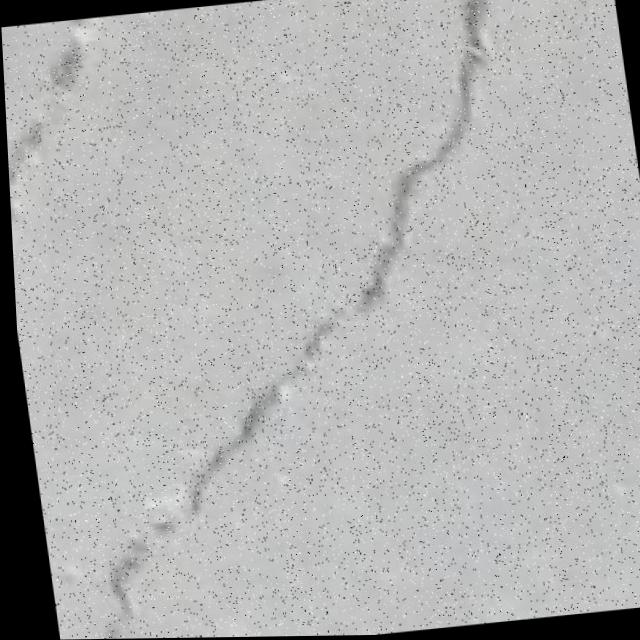Crack: (8, 0, 575, 640)
